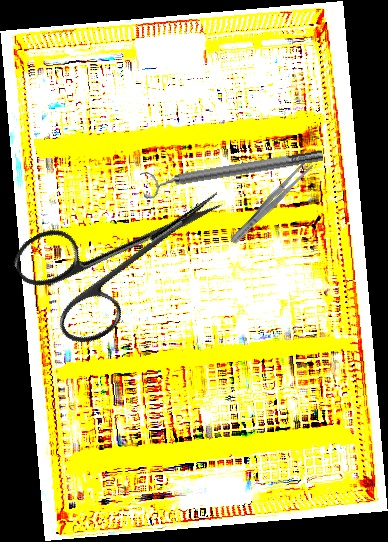Dressing Forceps: (227, 157, 315, 248)
Fixation Ring: (139, 141, 326, 201)
Iris Scissors: (6, 144, 251, 357)
